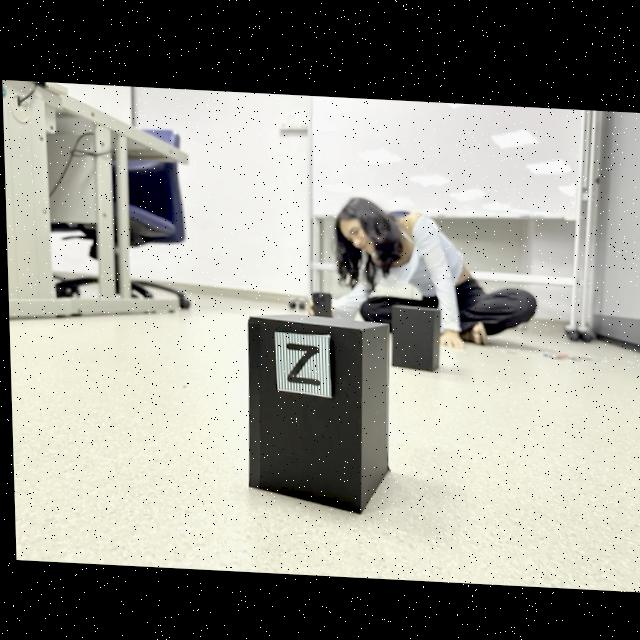Z: (284, 341, 318, 383)
